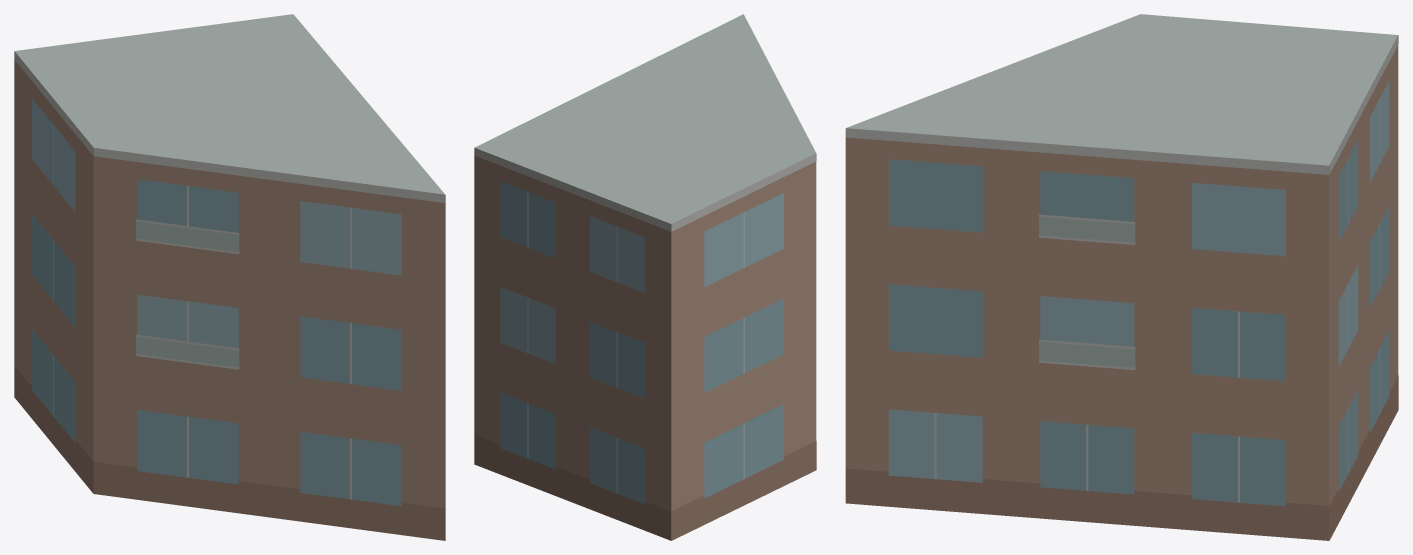
File: survey-upis-32886106.glb
3 views of the same model, side by side, from view 1: azimuth 30°, elevation 25°; view 2: azimuth 150°, elevation 25°; view 3: azimuth 270°, elevation 25° (orthographic). The views are drawn at different scales.
Visible parts, largest first — view 1: survey-upis-32886106.tmp; view 2: survey-upis-32886106.tmp; view 3: survey-upis-32886106.tmp.
Boxes of the visible parts, bbox=[...] form: survey-upis-32886106.tmp: bbox=[14, 14, 445, 540]; survey-upis-32886106.tmp: bbox=[474, 14, 816, 540]; survey-upis-32886106.tmp: bbox=[845, 14, 1398, 540].
Size of the model in its own units: 8.59 by 9.9 by 13.23.
